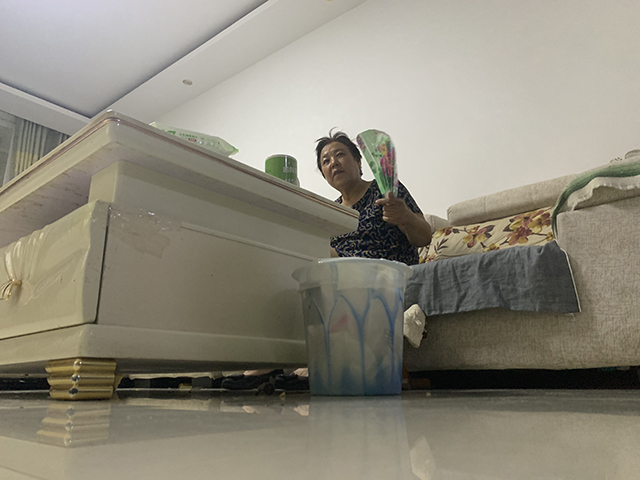sofa: (403, 148, 640, 374)
table: (1, 107, 365, 403)
trashcan: (292, 254, 414, 396)
